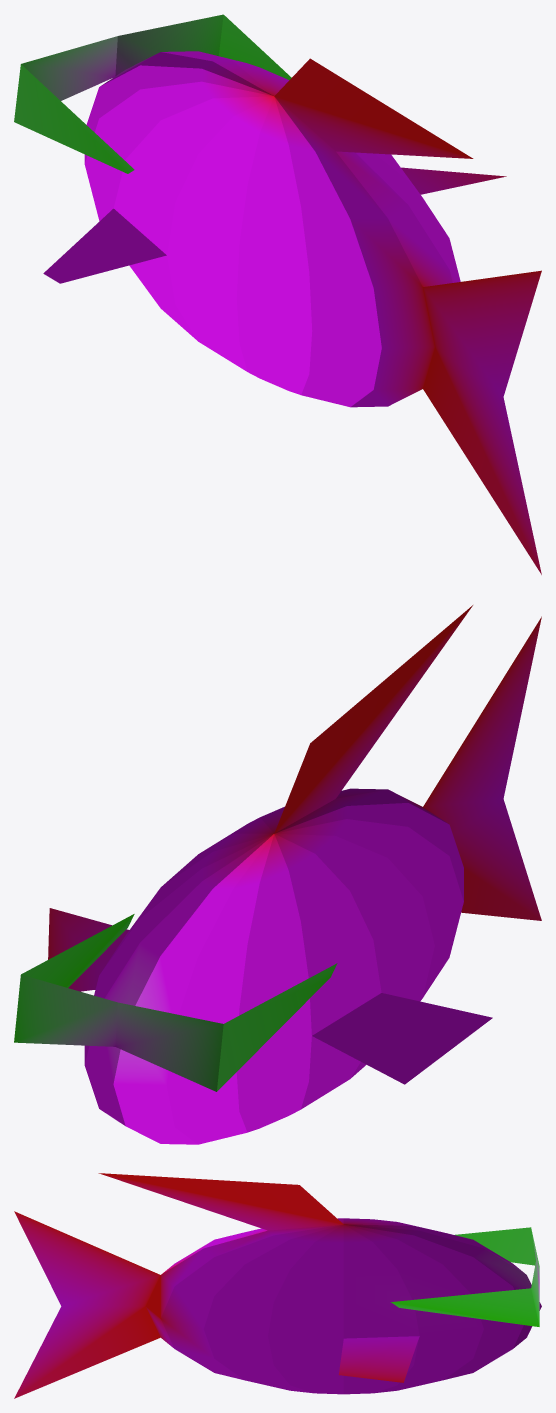
Rendered from club.glb.
3 renders of one model, top to bottom at view 1: azimuth 30°, elevation 25°; view 2: azimuth 150°, elevation 25°; view 3: azimuth 270°, elevation 25°, orthographic. The views are drawn at different scales.
Visible parts, largest first — view 1: Club; view 2: Club; view 3: Club.
Boxes of the visible parts, x1=… form: Club: x1=14, y1=14, x2=541, y2=574; Club: x1=14, y1=605, x2=541, y2=1144; Club: x1=14, y1=1173, x2=541, y2=1398.
Size of the model in its own units: 0.8755 by 0.6889 by 1.46.
